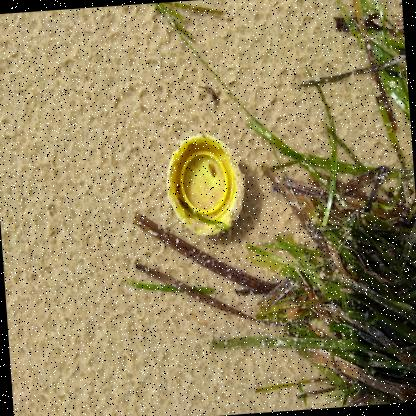Plastic bottle cap: (167, 135, 240, 234)
